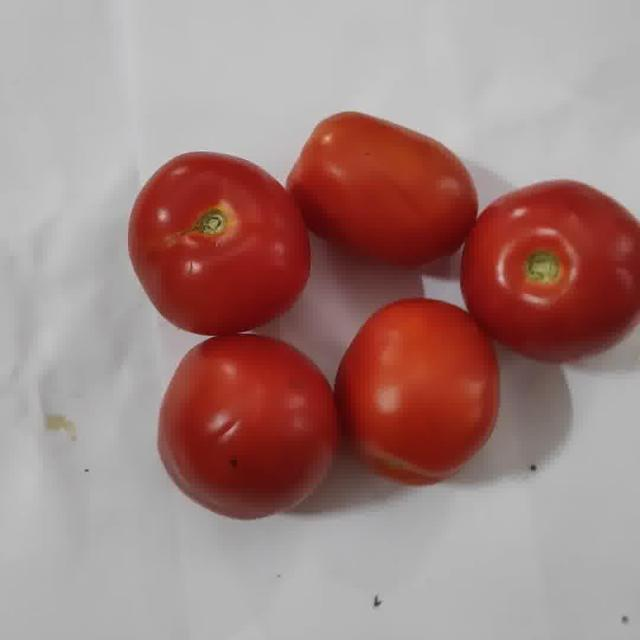Tomato: (129, 152, 310, 335), (159, 335, 337, 518), (460, 181, 639, 361), (335, 298, 499, 483), (286, 113, 478, 265)
